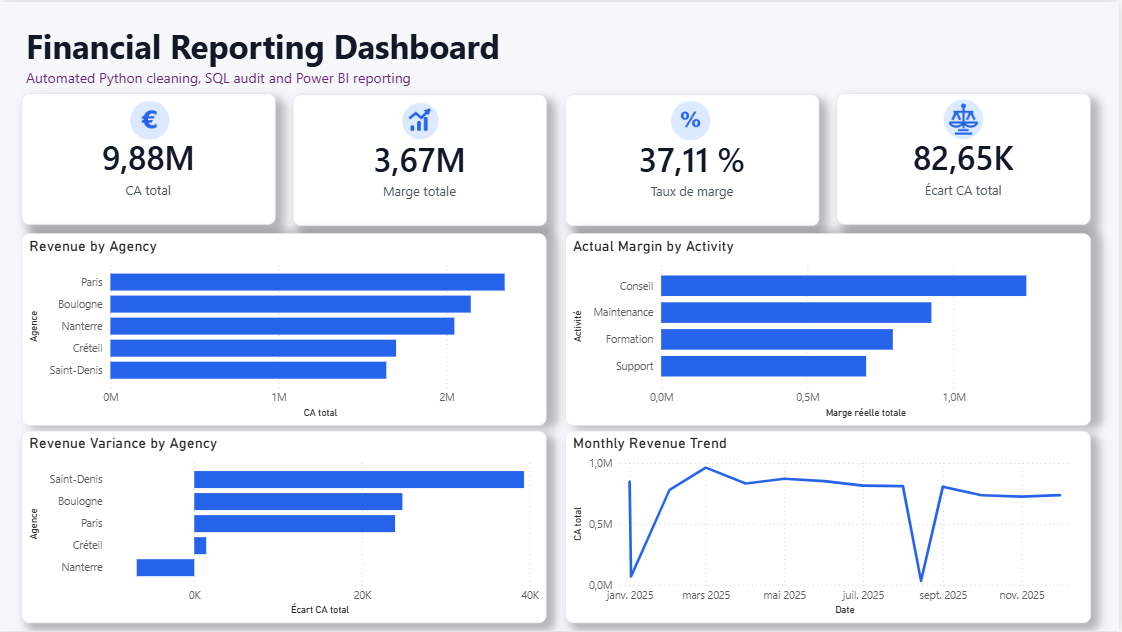

What the dashboard file says about the page in this screenshot:
{"tool":"powerbi","page":{"name":"Page 1","canvas":[1280,720],"ordinal":0},"visuals":[{"type":"cardVisual","fields":{"Data":["Sheet1.Écart CA total"]},"box":[956.7,105,290.8,150],"z":0},{"type":"cardVisual","fields":{"Data":["Sheet1.Taux de marge moyen"]},"box":[646.5,105.1,290,150],"z":1000},{"type":"cardVisual","fields":{"Data":["Sheet1.Marge réelle totale"]},"box":[336.3,105.1,290,150],"z":2000},{"type":"cardVisual","fields":{"Data":["Sheet1.CA total"]},"box":[25.3,105,290.8,150],"z":3000},{"type":"clusteredBarChart","title":"Revenue by Agency","fields":{"Category":["Sheet1.Agence"],"Y":["Sheet1.CA total"]},"box":[25.7,264.3,600,220],"z":4000},{"type":"clusteredBarChart","title":"Actual Margin by Activity","fields":{"Category":["Sheet1.Activité"],"Y":["Sheet1.Marge réelle totale"]},"box":[646.7,264.2,600.8,220],"z":5000},{"type":"clusteredBarChart","title":"Revenue Variance by Agency","fields":{"Category":["Sheet1.Agence"],"Y":["Sheet1.Écart CA total"]},"box":[25.7,490,600,220],"z":6000},{"type":"lineChart","title":"Monthly Revenue Trend","fields":{"Y":["Sheet1.CA total"],"Category":["Sheet1.Date"]},"box":[646.7,490,600.8,220],"z":7000},{"type":"textbox","box":[25.3,20.5,599.6,129.1],"z":8000},{"type":"image","box":[115.8,105,112.2,61.5],"z":9000},{"type":"image","box":[407.8,107.4,148.4,57.9],"z":10000},{"type":"image","box":[720.2,105,141.2,62.7],"z":11000},{"type":"image","box":[1036.3,102.5,132.7,62.7],"z":12000}]}

Visuals, with their boxes in screenshot pixels (x1, y1, x2, y2), scaled from the page's 1280x720 canvas onto the 1122x632 screenshot:
cardVisual - Sheet1.Écart CA total: pyautogui.locateOnScreen(839, 92, 1094, 224)
cardVisual - Sheet1.Taux de marge moyen: pyautogui.locateOnScreen(567, 92, 821, 224)
cardVisual - Sheet1.Marge réelle totale: pyautogui.locateOnScreen(295, 92, 549, 224)
cardVisual - Sheet1.CA total: pyautogui.locateOnScreen(22, 92, 277, 224)
"Revenue by Agency" clusteredBarChart: pyautogui.locateOnScreen(23, 232, 548, 425)
"Actual Margin by Activity" clusteredBarChart: pyautogui.locateOnScreen(567, 232, 1094, 425)
"Revenue Variance by Agency" clusteredBarChart: pyautogui.locateOnScreen(23, 430, 548, 623)
"Monthly Revenue Trend" lineChart: pyautogui.locateOnScreen(567, 430, 1094, 623)
textbox: pyautogui.locateOnScreen(22, 18, 548, 131)
image: pyautogui.locateOnScreen(102, 92, 200, 146)
image: pyautogui.locateOnScreen(357, 94, 488, 145)
image: pyautogui.locateOnScreen(631, 92, 755, 147)
image: pyautogui.locateOnScreen(908, 90, 1025, 145)
